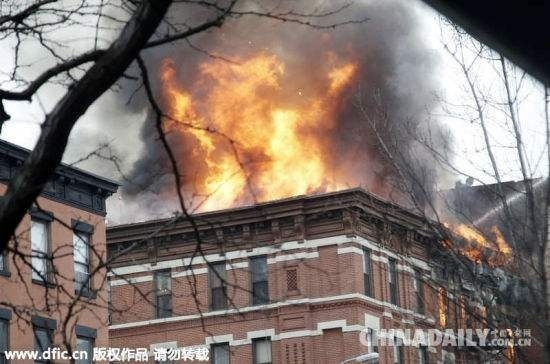fire: (158, 43, 357, 210), (442, 217, 514, 264)
